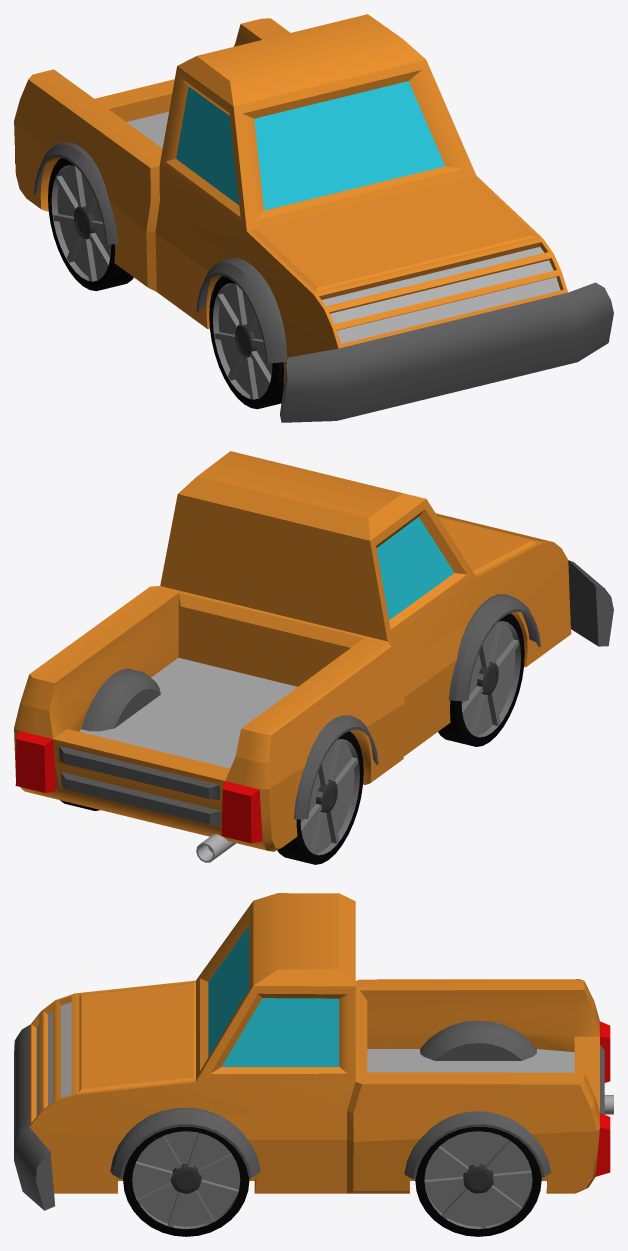
Rendered from car 3.fbx.
The picture shows the model from 3 angles, top to bottom: view 1: azimuth 30°, elevation 25°; view 2: azimuth 150°, elevation 25°; view 3: azimuth 270°, elevation 25°; orthographic projection. The views are drawn at different scales.
Visible parts, largest first — view 1: Car 3, Cylinder.003, Cylinder.002, Cylinder.006; view 2: Car 3, Cylinder.002, Cylinder.003, Cylinder.006; view 3: Car 3, Cylinder.004, Cylinder.001, Cylinder.006.
Part boxes in pixels (x1,y1,x2,y2): Car 3: (14, 14, 613, 422); Cylinder.003: (48, 158, 133, 291); Cylinder.002: (209, 276, 283, 409); Cylinder.006: (34, 142, 287, 362); Car 3: (14, 451, 613, 862); Cylinder.002: (438, 613, 524, 746); Cylinder.003: (277, 731, 363, 864); Cylinder.006: (294, 594, 540, 819); Car 3: (14, 893, 613, 1210); Cylinder.004: (415, 1127, 541, 1236); Cylinder.001: (123, 1127, 249, 1236); Cylinder.006: (110, 1108, 551, 1179).
Size of the model in its own units: 286 by 231 by 500.
